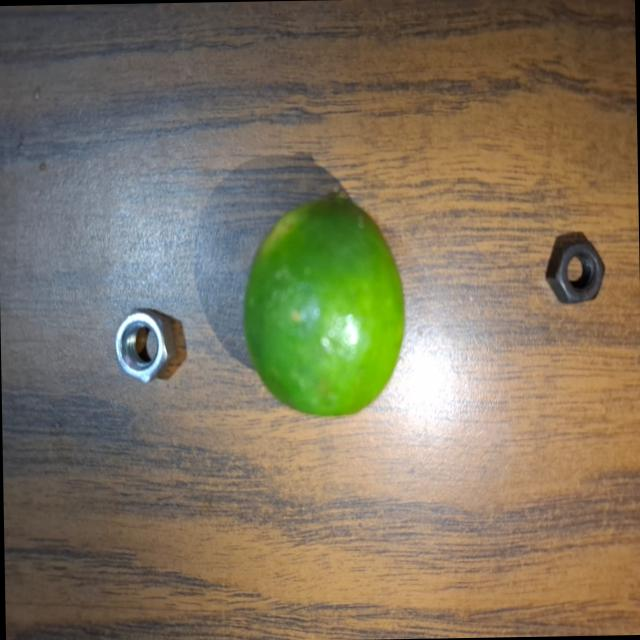limon: (230, 184, 408, 419)
milimetrico: (542, 236, 608, 316)
tuerca: (111, 304, 183, 384)
